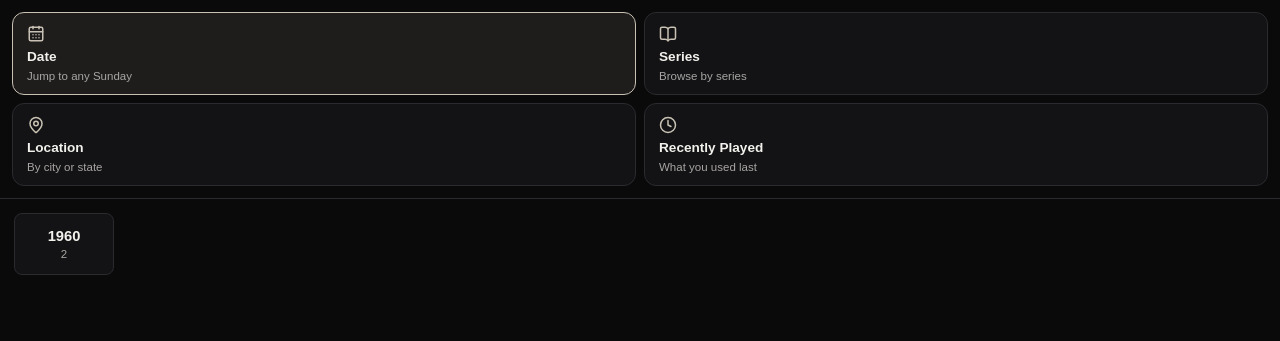
Test case: BrowsePanel › drills into a sermon to show paragraphs
This screenshot has width=1280, height=341.
Step 1. Click the button "Series Browse by series" → (679, 56), box x1=644 y1=12 x2=1268 y2=95
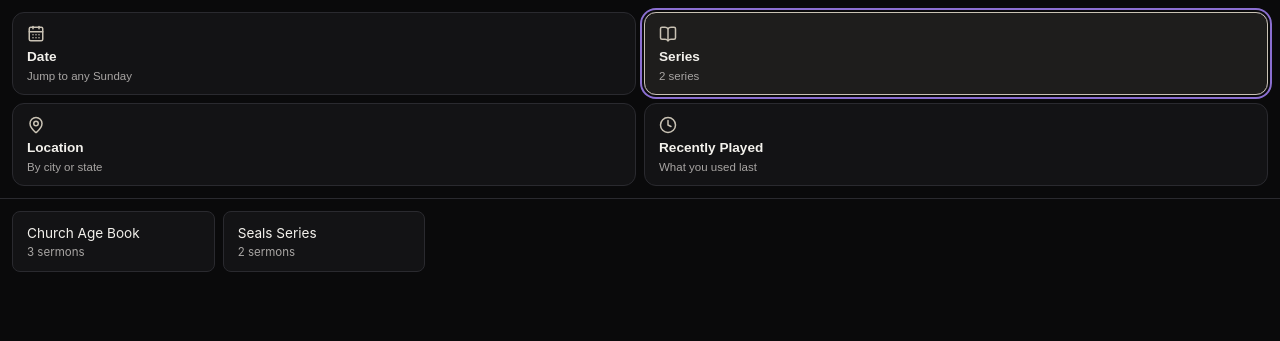
Now the text "Church Age Book" is shown
Step 2. Click the text "Church Age Book" → (83, 233), box x1=27 y1=225 x2=140 y2=241
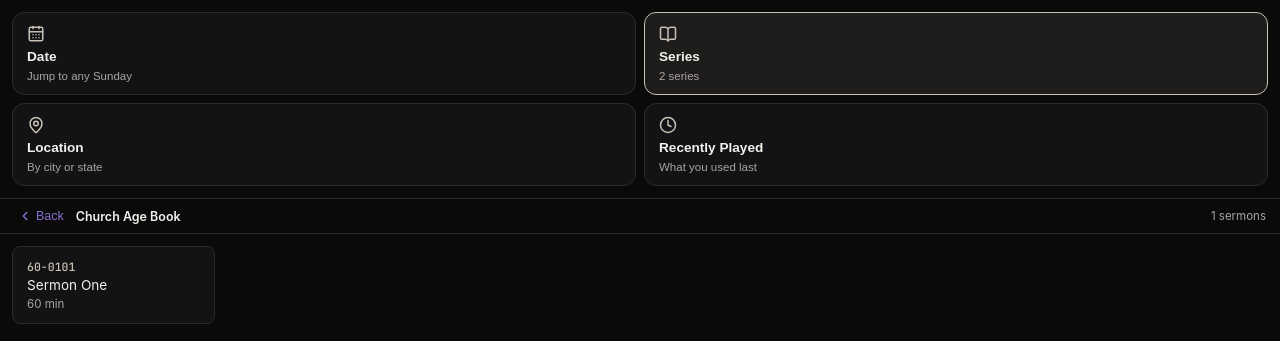
Now the text "Sermon One" is shown
Step 3. Click the text "Sermon One" → (67, 285), box x1=27 y1=277 x2=107 y2=293
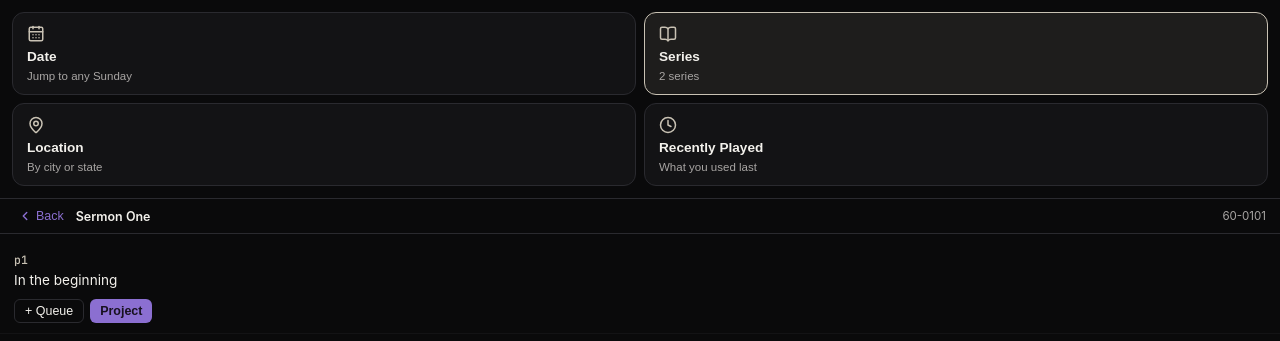
Now the text "In the beginning" is shown, box x1=14 y1=272 x2=117 y2=288
